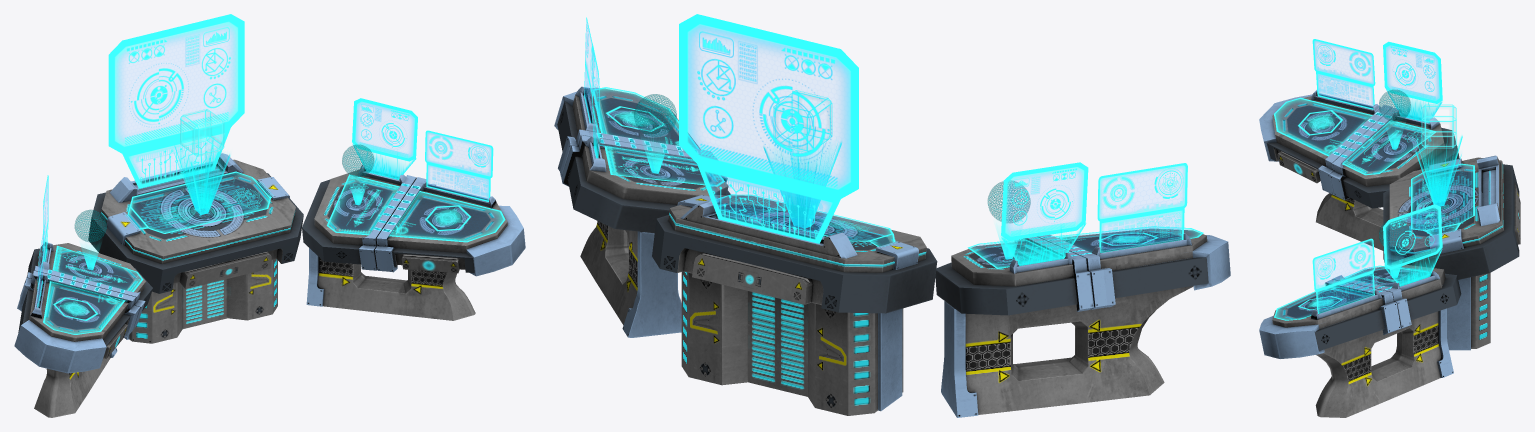
The picture shows the model from 3 angles, left to right: view 1: azimuth 30°, elevation 25°; view 2: azimuth 150°, elevation 25°; view 3: azimuth 270°, elevation 25°; orthographic projection. The views are drawn at different scales.
Visible parts, largest first — view 1: Sidetables_low, Emissives_low, Midtables_low; view 2: Sidetables_low, Emissives_low, Midtables_low; view 3: Sidetables_low, Emissives_low, Midtables_low.
Boxes of the visible parts, box(x1,y1,x2,y2) form: Sidetables_low: box(14, 165, 525, 417); Emissives_low: box(37, 14, 505, 334); Midtables_low: box(88, 153, 303, 343); Sidetables_low: box(554, 86, 1230, 417); Emissives_low: box(584, 14, 1203, 268); Midtables_low: box(652, 195, 937, 415); Sidetables_low: box(1259, 90, 1461, 417); Emissives_low: box(1274, 39, 1474, 320); Midtables_low: box(1383, 155, 1520, 350).
Bounding box in the file's own units: 4.71 × 2.5 × 2.17.
Materials: 2 (2 with a texture image).
